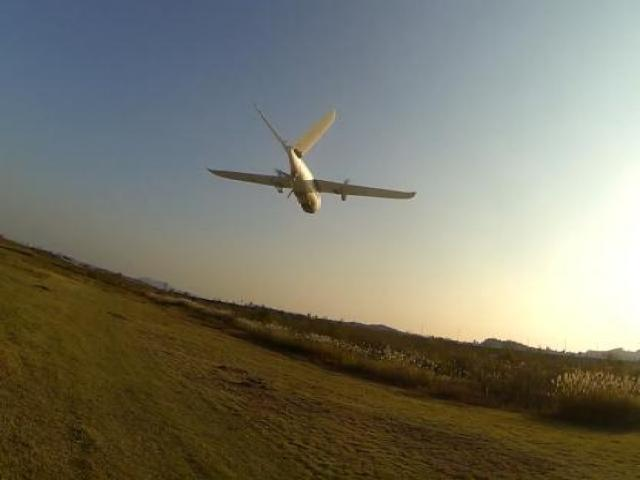uav: (196, 88, 422, 232)
